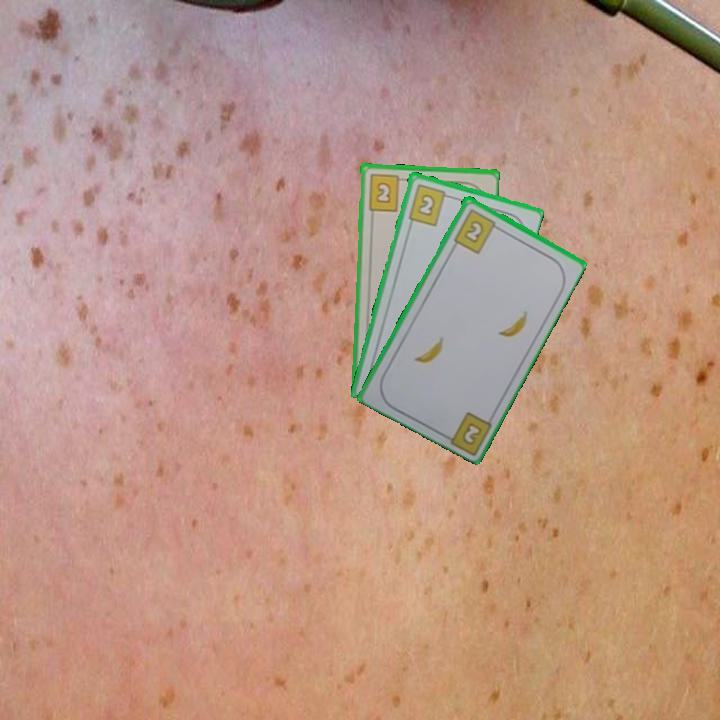2b: (450, 205, 503, 256), (405, 180, 454, 228), (365, 170, 408, 213), (458, 418, 485, 448)
